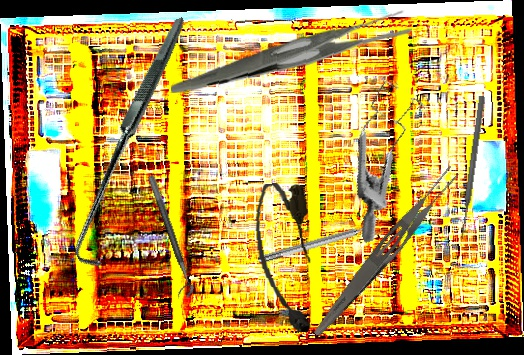Cannula: (250, 180, 321, 336)
Dressing Forceps: (309, 161, 464, 345), (170, 1, 413, 102)
Fixation Ring: (137, 174, 197, 302), (255, 214, 384, 270)
Hook Surgical: (3, 16, 264, 273)
Pusher: (457, 95, 487, 240)
Speculum: (316, 71, 461, 244)
